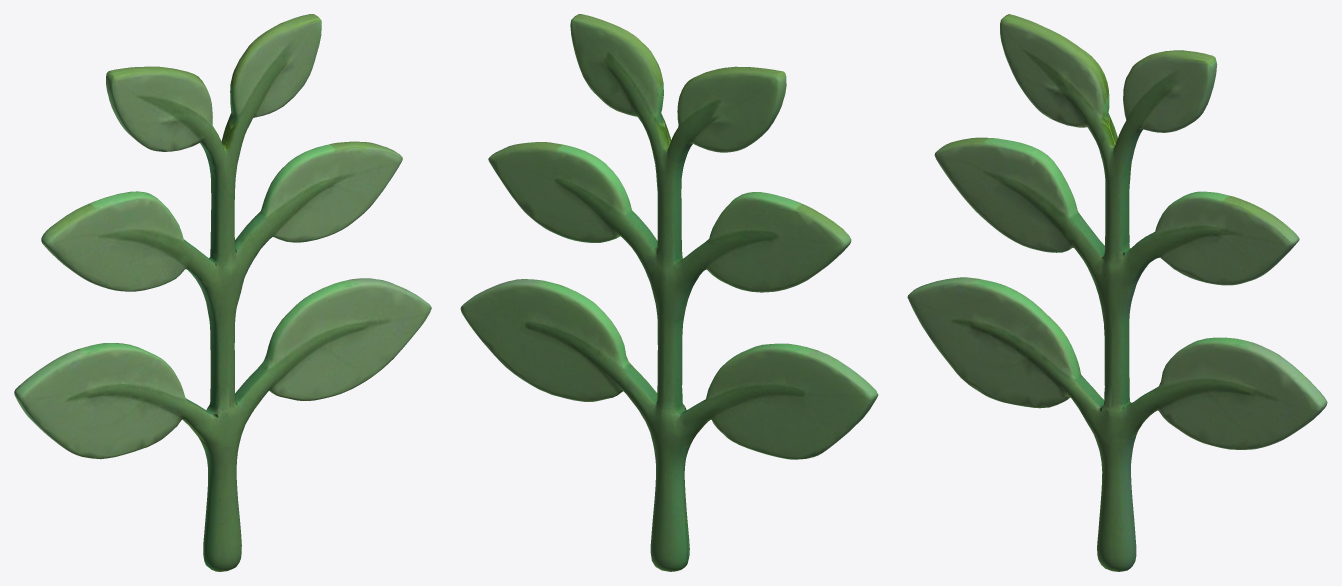
3 views of the same model, side by side, from view 1: azimuth 30°, elevation 25°; view 2: azimuth 150°, elevation 25°; view 3: azimuth 330°, elevation 25° (orthographic).
Bounding box in the file's own units: 1.62 × 2 × 0.12.
1 material, 1 textured.
